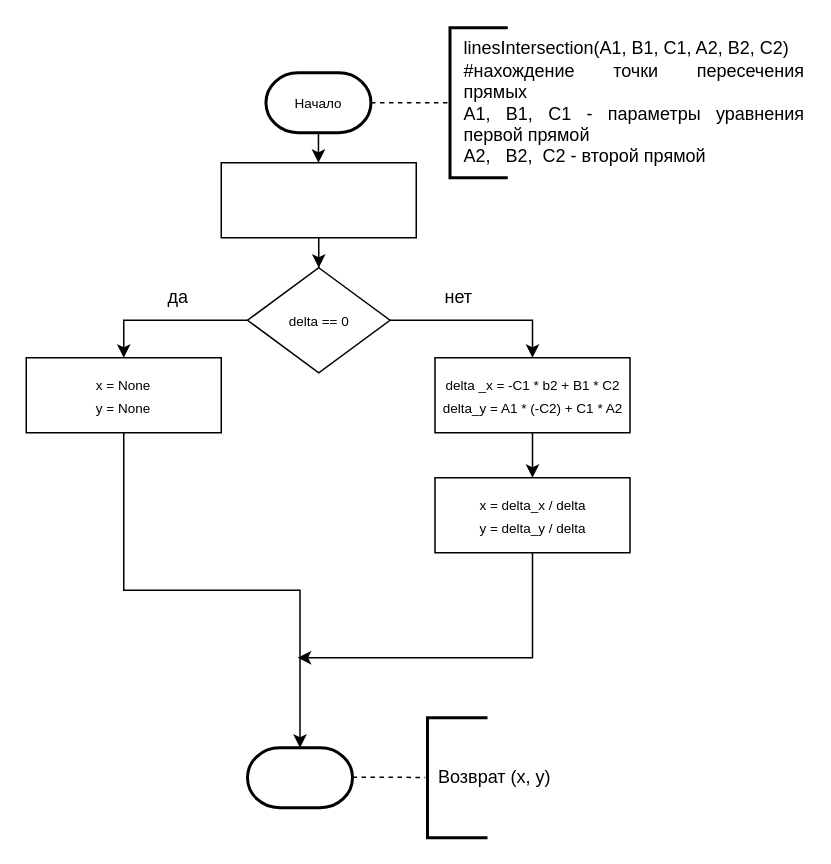
The diagram is 831 pixels wide and 864 high, and some of its shapes have lost their labels. Here are the shapes that lost their labels. From the top down, the centre of each, then its label:
At pixel 318 199: "delta = A1 * B2 - B1 * A2".
At pixel 299 777: "Конец".
